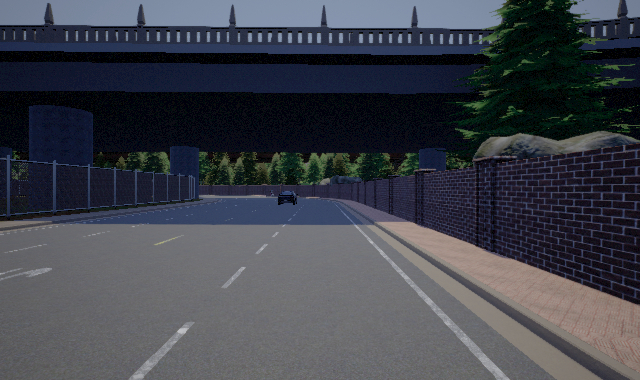vehicle: (276, 189, 296, 205)
